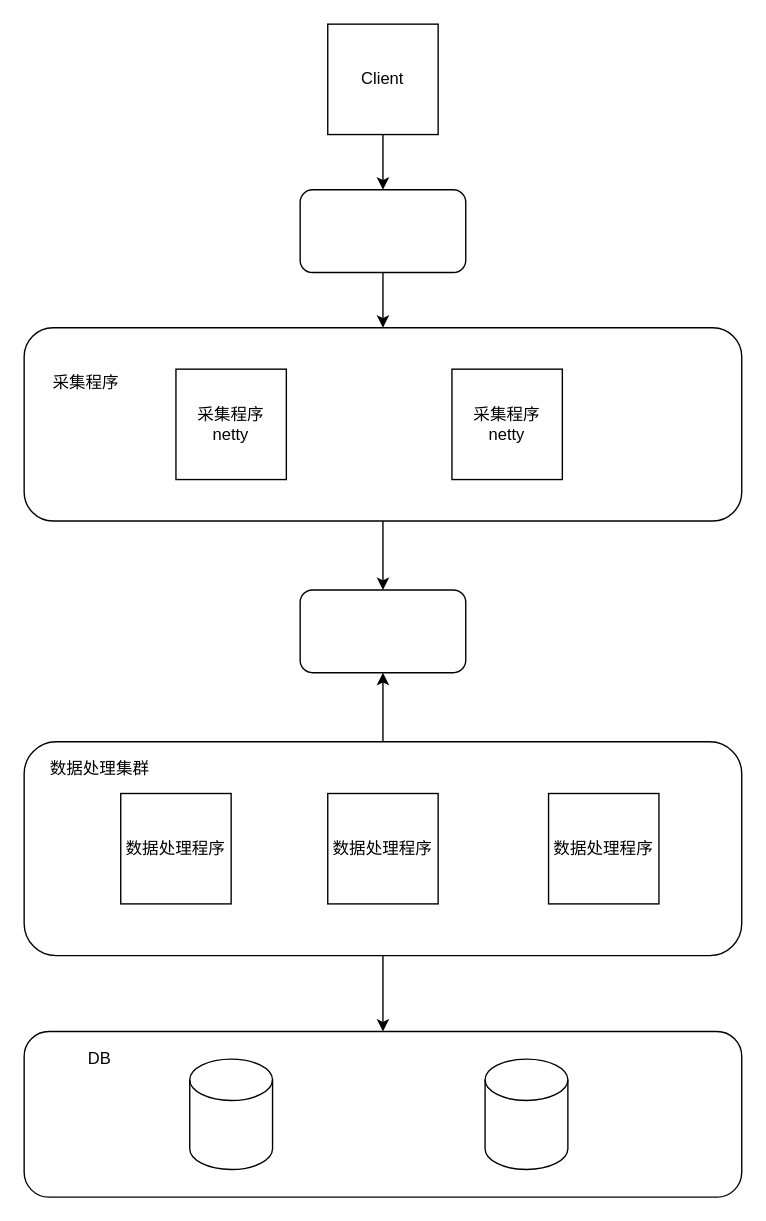
The diagram is 766 pixels wide and 1221 high, and some of its shapes have lost their labels. Each missing label, with the centre of its shape:
"MQ" goes at point (382, 631).
"Nginx" goes at point (382, 230).
